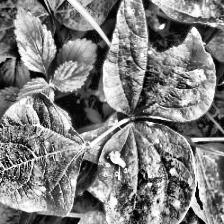Bean Rust: (111, 0, 213, 120), (96, 121, 192, 224), (0, 100, 80, 219), (145, 0, 224, 44)
